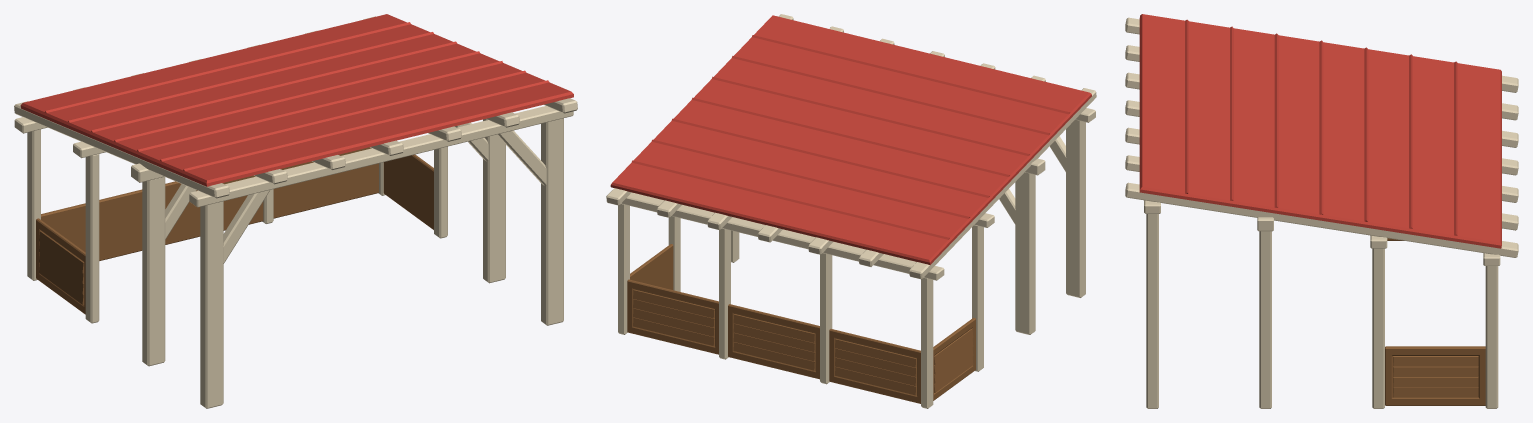
Rendered from structures_b001.gltf.
3 views of the same model, side by side, from view 1: azimuth 30°, elevation 25°; view 2: azimuth 150°, elevation 25°; view 3: azimuth 270°, elevation 25° (orthographic). The views are drawn at different scales.
Parts seen in each view (by area): view 1: structures_b001.001; view 2: structures_b001.001; view 3: structures_b001.001.
Part boxes in pixels (x1,y1,x2,y2): structures_b001.001: [14, 14, 577, 408]; structures_b001.001: [606, 14, 1096, 408]; structures_b001.001: [1125, 14, 1518, 408].
Bounding box in the file's own units: 5 × 2.93 × 4.64.
Materials: 1 (1 with a texture image).
